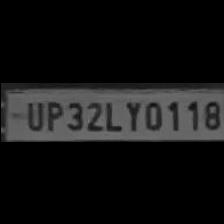0: (139, 97, 165, 131)
1: (164, 97, 184, 131), (182, 96, 200, 132)
2: (83, 97, 103, 131)
3: (62, 97, 82, 131)
8: (199, 97, 223, 130)
L: (100, 97, 120, 131)
P: (43, 97, 63, 131)
U: (22, 98, 42, 130)
Y: (121, 97, 141, 131)
